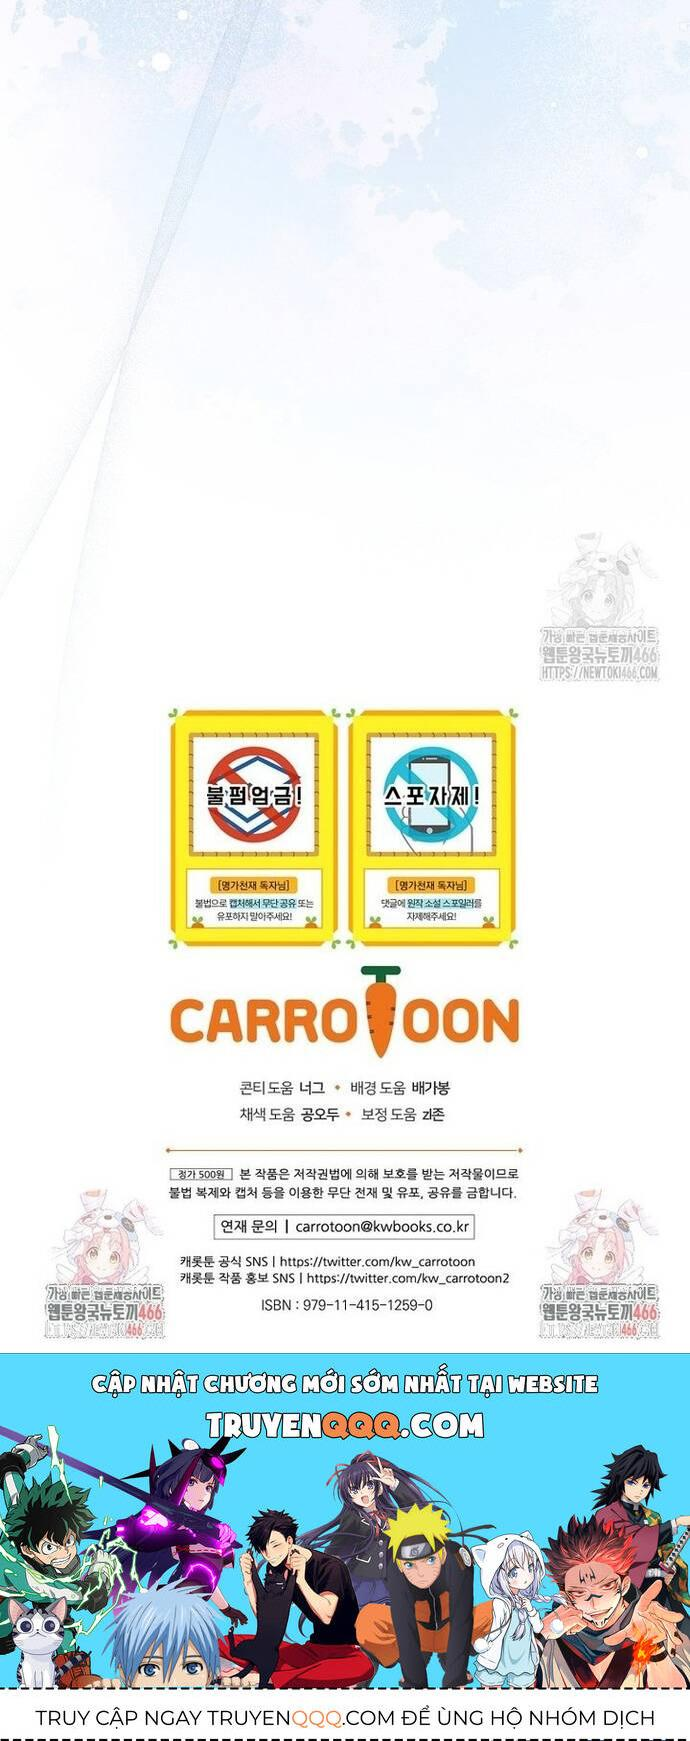quangcao: (0, 1352, 690, 1741)
